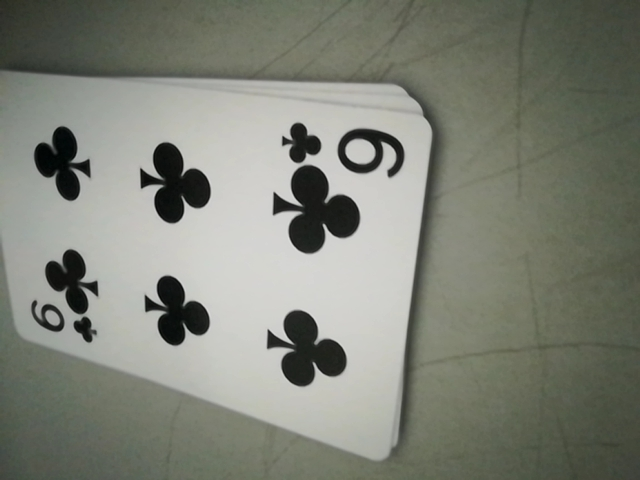mh 6: (281, 118, 411, 175), (22, 301, 96, 348)
